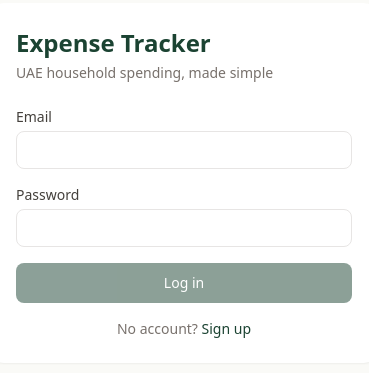
Test: LoginPage › shows error message when login fails
Type "a@b.com" into the field labelled "Email" at (184, 150), box [16,131,352,169]
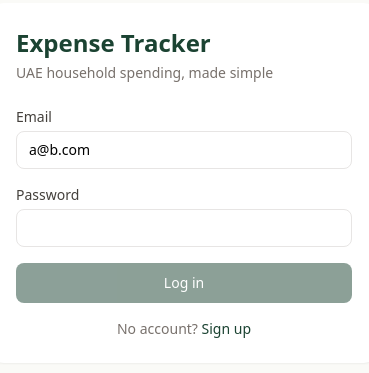
Type "wrongpass" into the password field labelled "Password" at (184, 228), box [16,209,352,247]
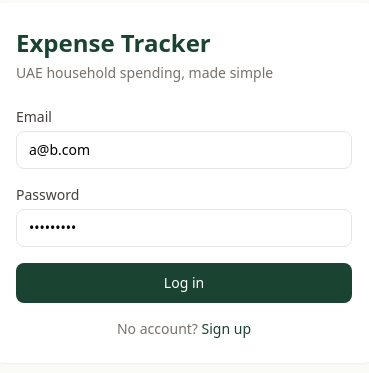
Click the button "Log in" at (184, 283), box [16,263,352,303]
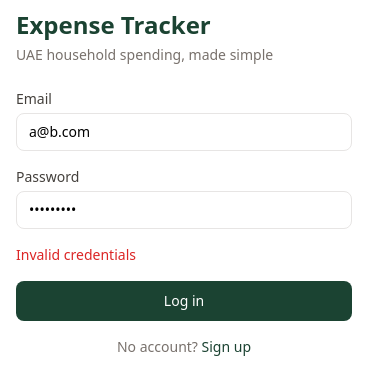
Expected: the text "Invalid credentials" is shown, [16,245,136,264]
